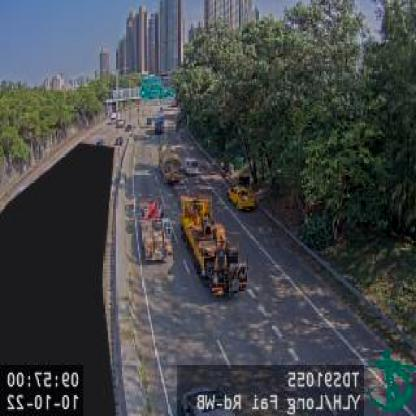Bus: (184, 158, 198, 176)
Truck: (181, 191, 248, 295), (134, 195, 170, 264), (160, 153, 180, 186)
